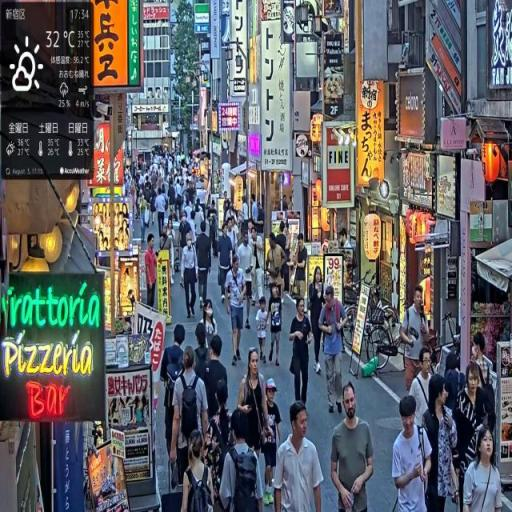person: (329, 381, 378, 511), (170, 345, 211, 495), (273, 399, 325, 512), (421, 374, 461, 512), (392, 393, 432, 512), (219, 410, 265, 512), (318, 282, 350, 418), (162, 324, 188, 472), (400, 286, 433, 394), (464, 425, 503, 512), (289, 296, 315, 411), (225, 254, 250, 369), (182, 431, 216, 512), (264, 382, 284, 503), (308, 265, 328, 373), (195, 222, 214, 314), (182, 232, 199, 322), (218, 223, 235, 305), (269, 284, 284, 369), (291, 234, 309, 299), (145, 235, 159, 312), (257, 296, 271, 366), (156, 186, 169, 240)
